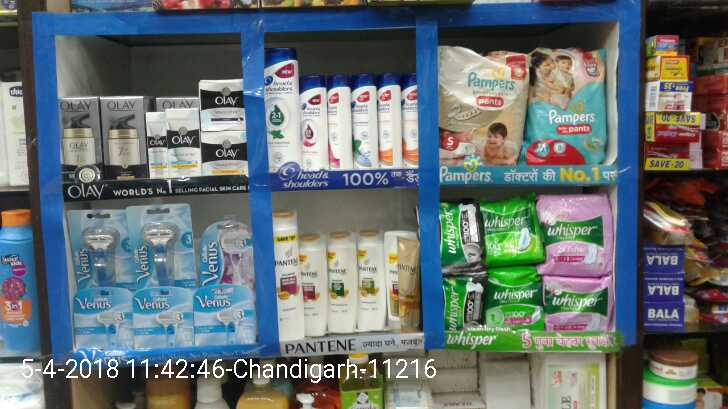venus: (132, 206, 196, 284), (69, 207, 131, 283), (74, 286, 134, 353), (135, 286, 196, 349), (195, 284, 255, 347), (202, 220, 251, 283)
